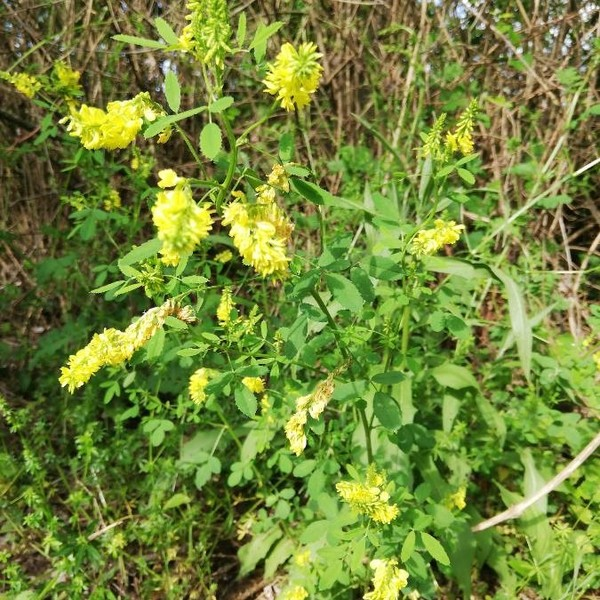obstacle: (78, 44, 567, 545)
